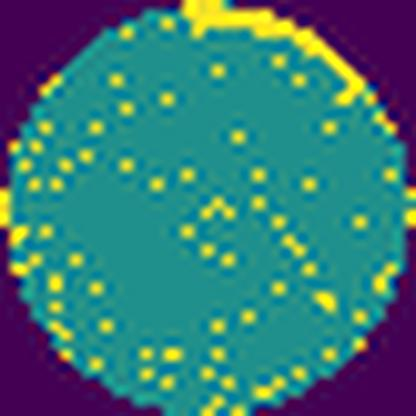Edge-Loc: (186, 0, 369, 110)
